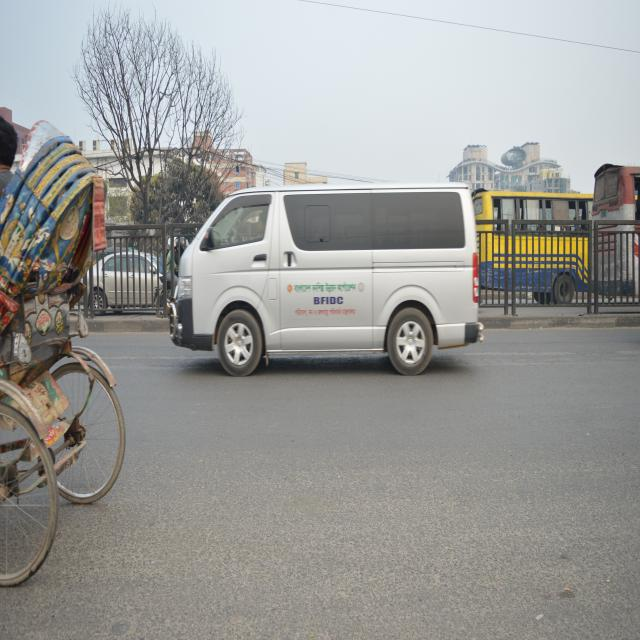bus: (474, 171, 594, 303), (593, 162, 640, 324)
car: (88, 248, 163, 315)
microbus: (172, 188, 480, 379)
